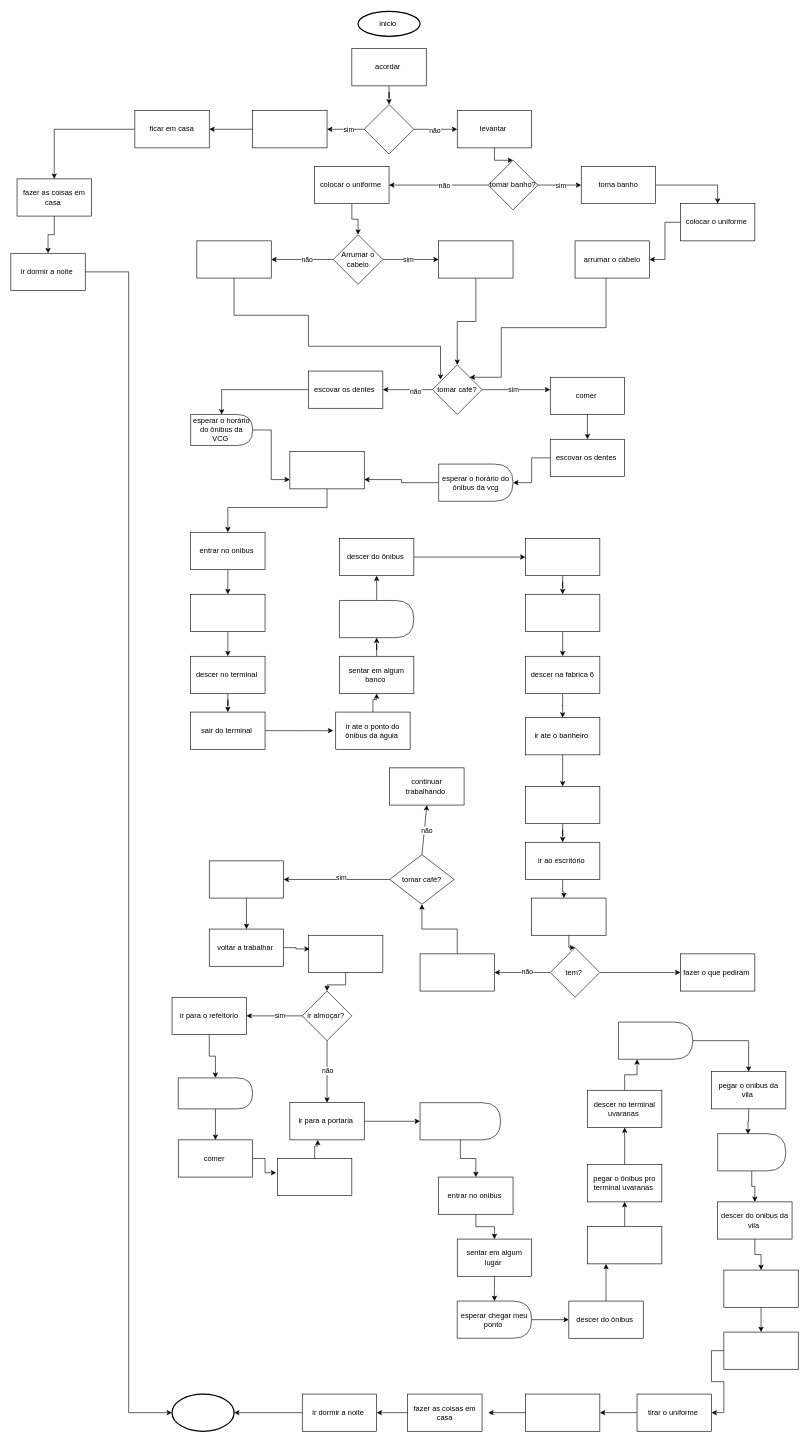
Image size: 809x1442. Some labels were removed from this diagram. Here are the shapes that lost their labels. From the top down, the centre of each, then its label:
point 289,129: dormir
point 389,129: Voltar a dormir
point 233,259: apenas prender
point 475,259: molhar e arrumar o cabelo
point 326,470: ir ate o ponto do oibus da vcg
point 562,557: entrar na empresa
point 227,612: pagar a passagem
point 376,619: esperar o motorista chegar ate a aguia
point 562,612: bater o ponto
point 562,805: colocar os epi 's
point 246,879: fazer a pausa do café
point 568,916: ver se tem alguma coisa no computador
point 345,953: bater o ponto para ir embora
point 456,972: ajudar na montagem das peças
point 655,1040: esperar o onibus da vila
point 215,1093: esperar na fila para pegar a comida
point 460,1121: esperar o onibus
point 751,1152: esperar chegar no meu ponto
point 314,1177: terminar de comer
point 624,1245: entrar no terminal
point 760,1288: ir para casa
point 760,1350: entrar em casa
point 202,1412: fim
point 562,1412: descansar um pouco
